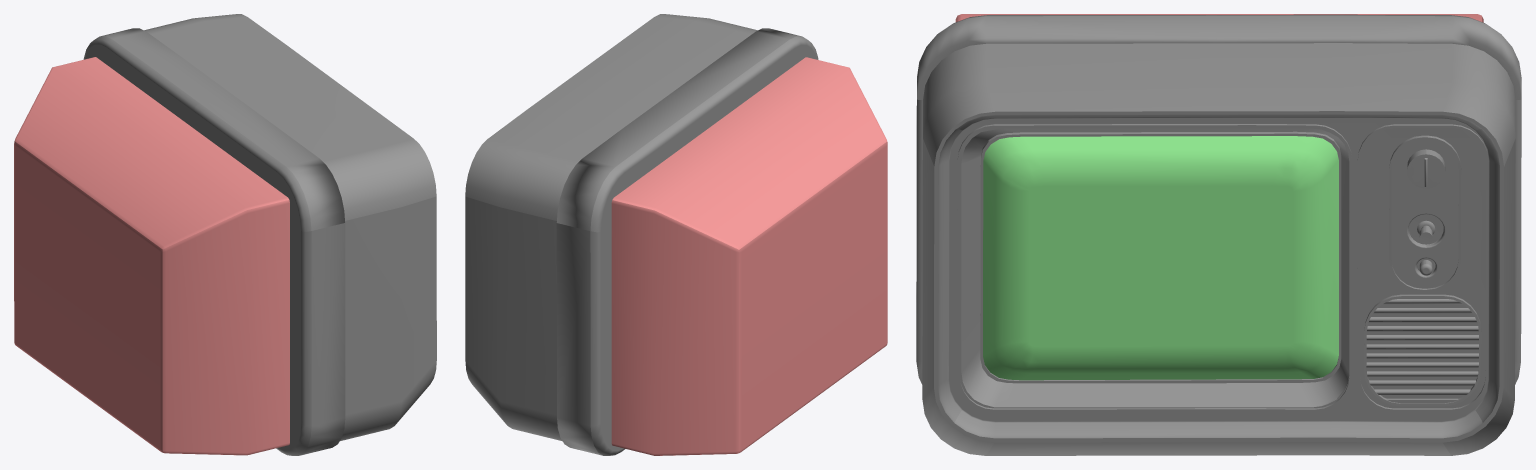
The model's file is ControlRoom_GraphMonitor_01.gltf.
3 views of the same model, side by side, from view 1: azimuth 30°, elevation 25°; view 2: azimuth 150°, elevation 25°; view 3: azimuth 270°, elevation 25° (orthographic). The views are drawn at different scales.
Parts seen in each view (by area): view 1: ControlRoom_GraphMonitor_01; view 2: ControlRoom_GraphMonitor_01; view 3: ControlRoom_GraphMonitor_01.
Part boxes in pixels (x1,y1,x2,y2): ControlRoom_GraphMonitor_01: (14,14,436,455); ControlRoom_GraphMonitor_01: (465,14,887,455); ControlRoom_GraphMonitor_01: (916,14,1521,455).
Bounding box in the file's own units: 10.75 × 11.93 × 16.97.
